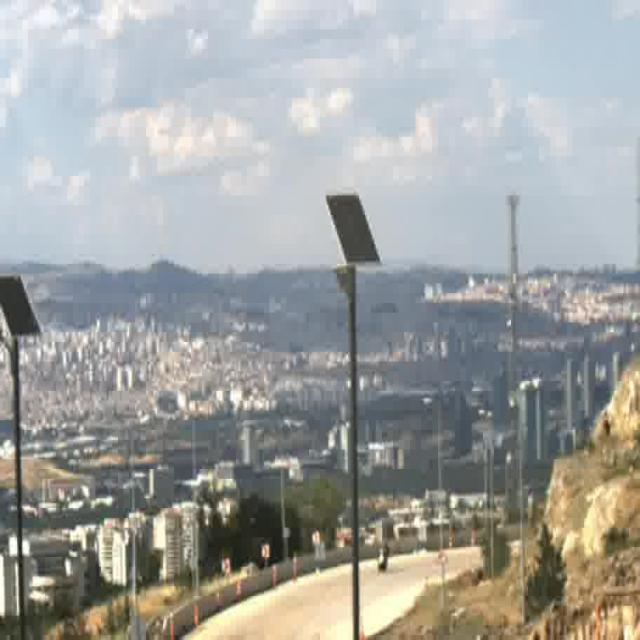Car: (377, 544, 389, 572)
